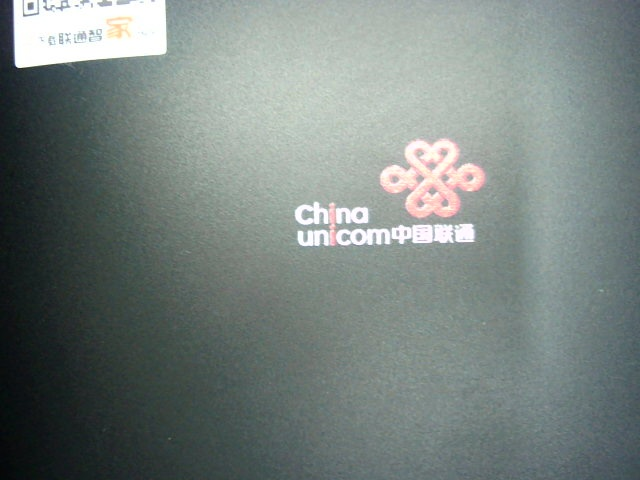AC_ChinaUnicom: (289, 135, 492, 250)
